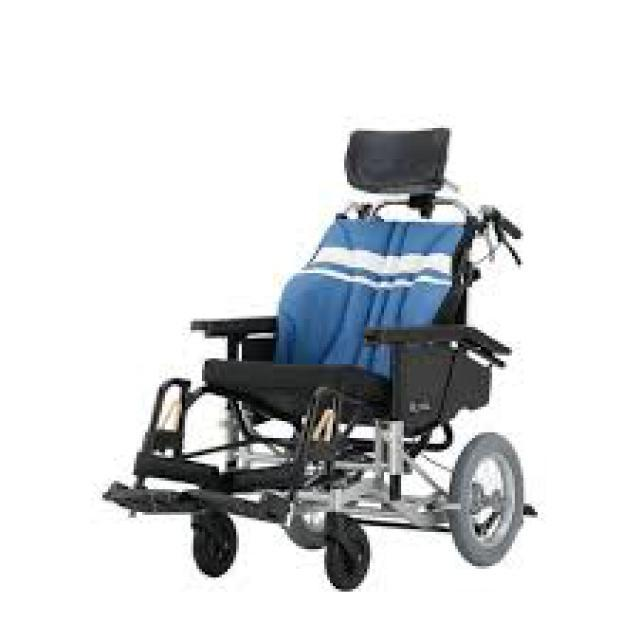wheelchair: (85, 116, 572, 592)
